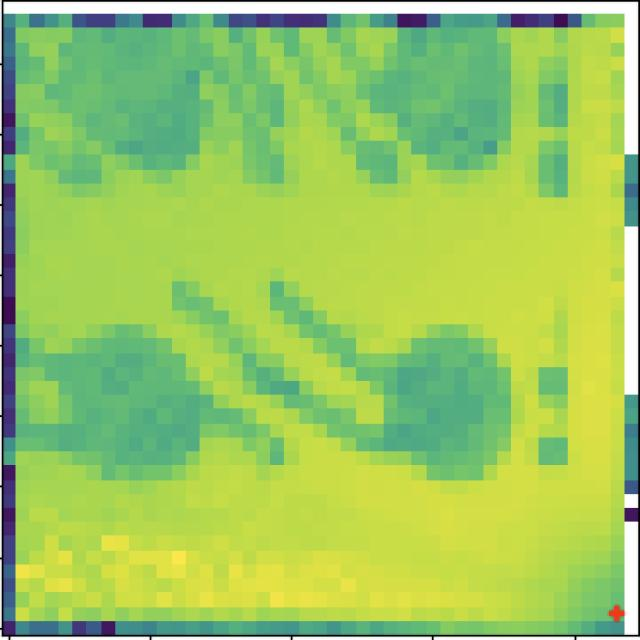Concrete: (59, 30, 226, 193)
Glass: (386, 314, 523, 486)
Metal: (60, 319, 222, 487)
Wood: (381, 29, 530, 196)
